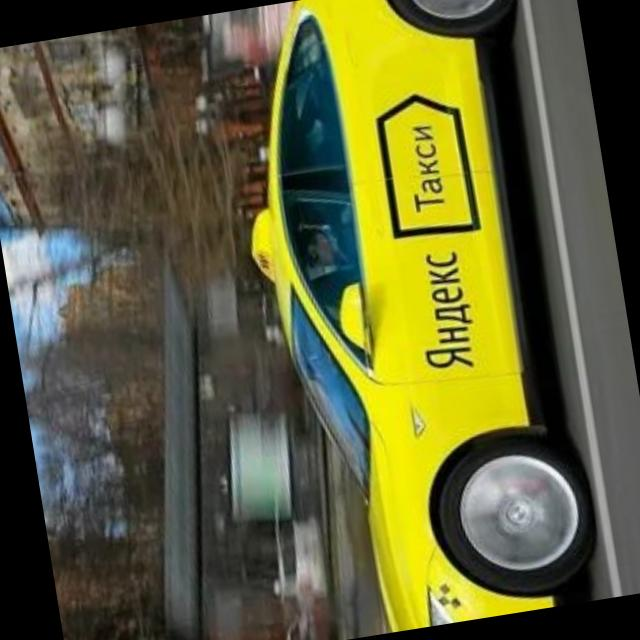taxi: (210, 1, 611, 640)
